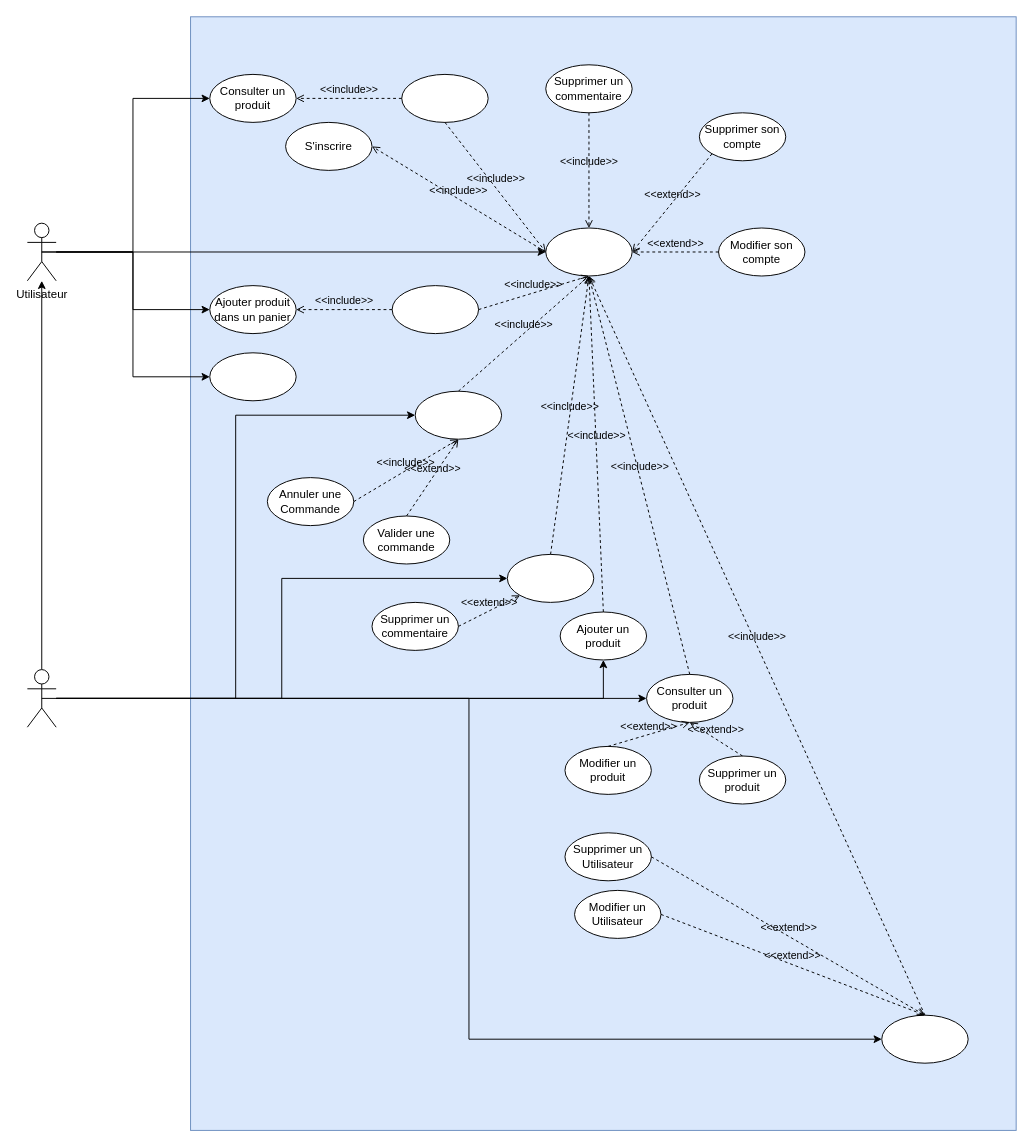
Image size: 1033x1147. Some labels were removed from this diagram. The shapes that lost their labels are listed below. From the top down, each one's centre as x and y in pixels, then its label:
At [444,97]: "Ajouter un commentaire".
At [588,251]: "Se Connecter".
At [435,309]: "Commander un produit".
At [252,376]: "Consulter panier".
At [458,414]: "Consulter une commande".
At [550,577]: "Consulter un commentaire".
At [41,698]: "Admin".
At [924,1038]: "Consulter un Utilsateur".
